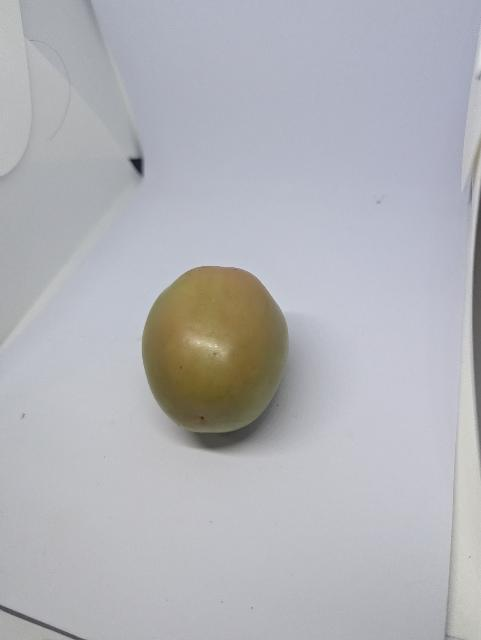breaker: (137, 257, 292, 452)
